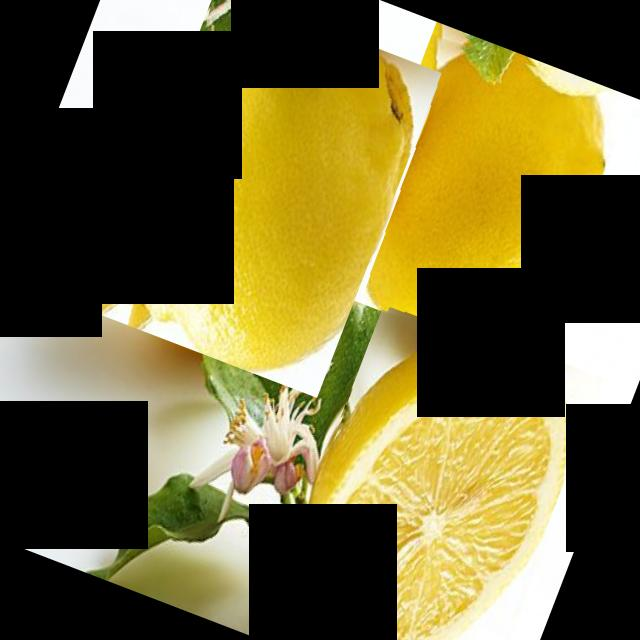lemon: (91, 0, 441, 398), (259, 296, 603, 640), (332, 22, 634, 368)
